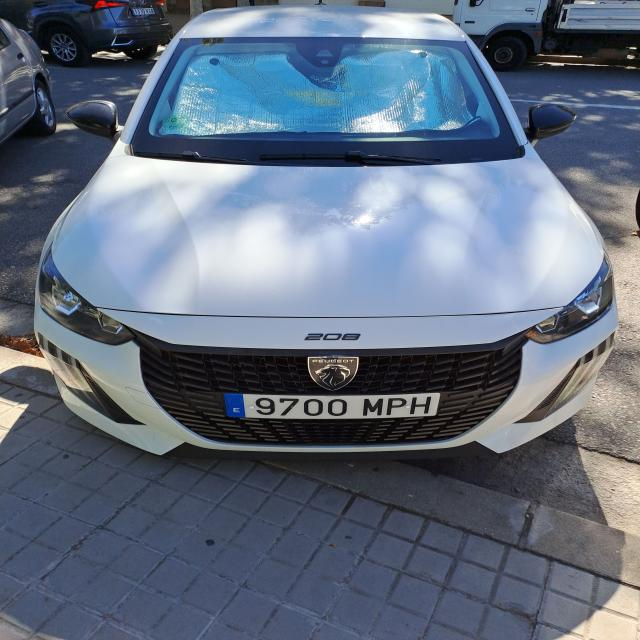license_plate-34Td: (225, 393, 440, 420)
